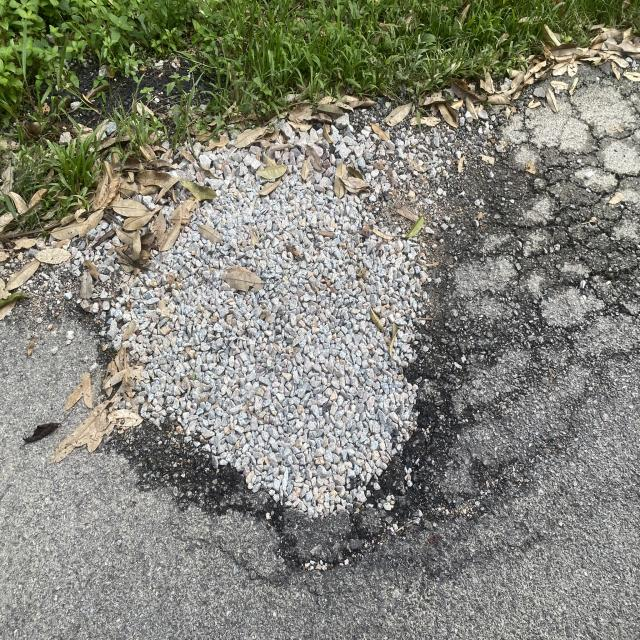pothole: (0, 170, 516, 576)
